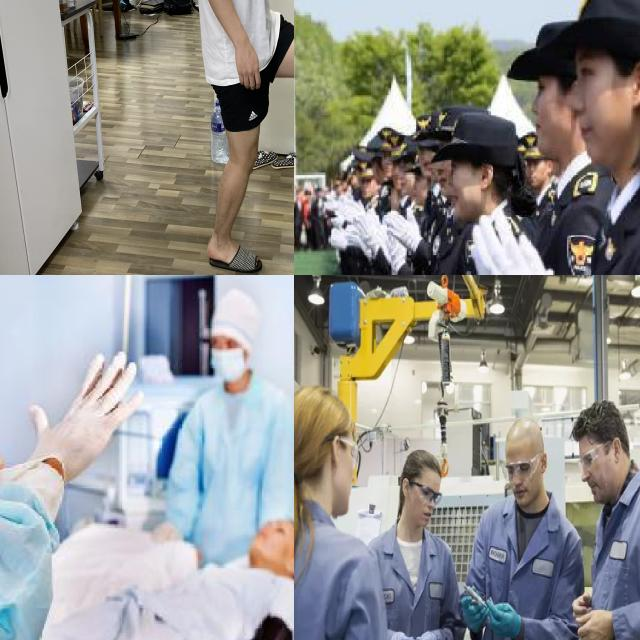No_Ear-Protection: (627, 57, 640, 102), (478, 161, 496, 190), (332, 435, 339, 466), (613, 438, 621, 463), (402, 478, 410, 498), (541, 453, 548, 473)
Sandals: (201, 228, 267, 275)
face_mask: (209, 332, 256, 386)
face_nomask: (568, 65, 626, 166), (522, 72, 572, 162), (581, 443, 620, 505), (247, 513, 294, 564), (444, 158, 488, 212), (510, 464, 545, 505), (408, 486, 434, 531)
glasses: (502, 454, 541, 482), (409, 478, 441, 507), (581, 442, 610, 470), (339, 435, 359, 469), (322, 435, 334, 445)
hand_glove: (24, 352, 152, 473), (470, 211, 556, 275), (387, 206, 421, 251), (486, 598, 521, 639), (379, 223, 407, 270), (461, 597, 489, 633), (355, 211, 382, 248), (342, 198, 367, 218), (329, 228, 356, 246), (330, 199, 344, 226), (416, 630, 436, 640), (391, 632, 415, 640)
hand_noglove: (572, 593, 614, 640)
head_nohelmet: (294, 387, 354, 485), (570, 0, 640, 68), (515, 12, 582, 82), (444, 116, 522, 172), (571, 400, 630, 456), (398, 448, 441, 519), (508, 417, 544, 452)
person: (0, 275, 139, 640), (474, 0, 640, 275), (177, 277, 294, 596), (323, 117, 519, 275)
